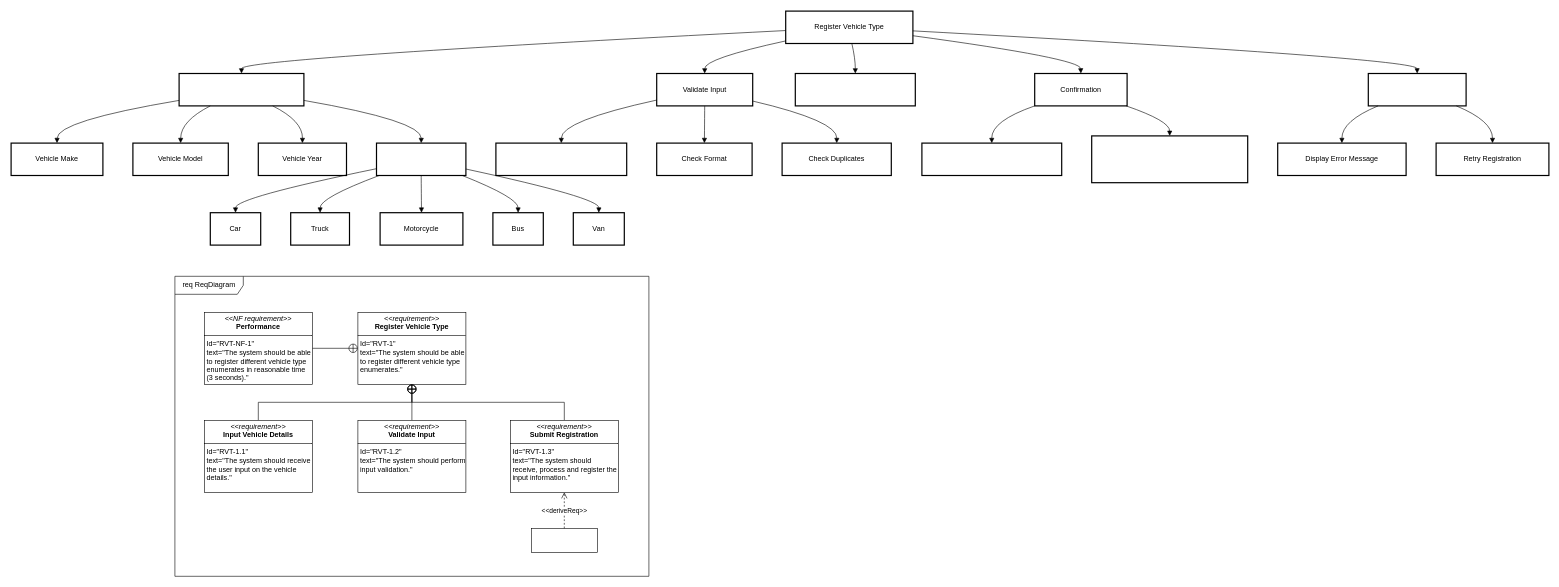
Some shapes in this 1559 by 587 pixel diagram are drawn without their labels. Here are the shapes that lost their labels. From the top down, the centre of each, then its label:
At (241,89): "Input Vehicle Details".
At (855,89): "Submit Registration".
At (1416,89): "Error Handling".
At (421,159): "Vehicle Type".
At (561,159): "Check Required Fields".
At (991,159): "Display Success Message".
At (1169,159): "Provide Registration Number".
At (564,540): "<<requirement>> Confirmation".
